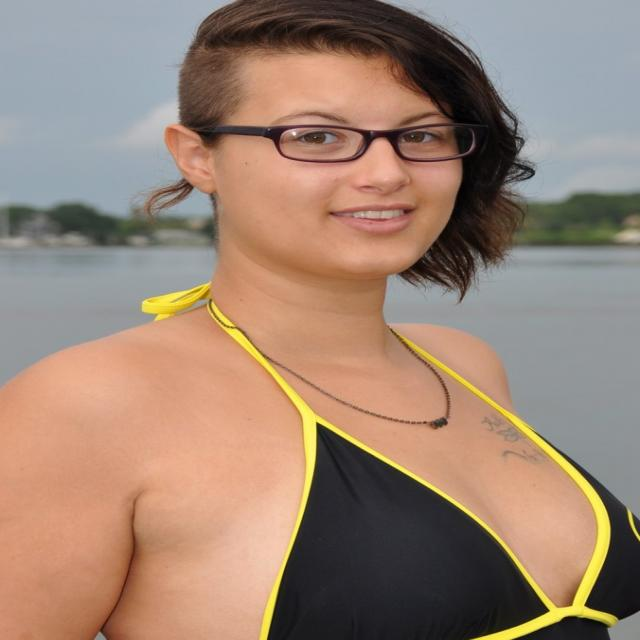Glasses: (176, 126, 483, 163)
